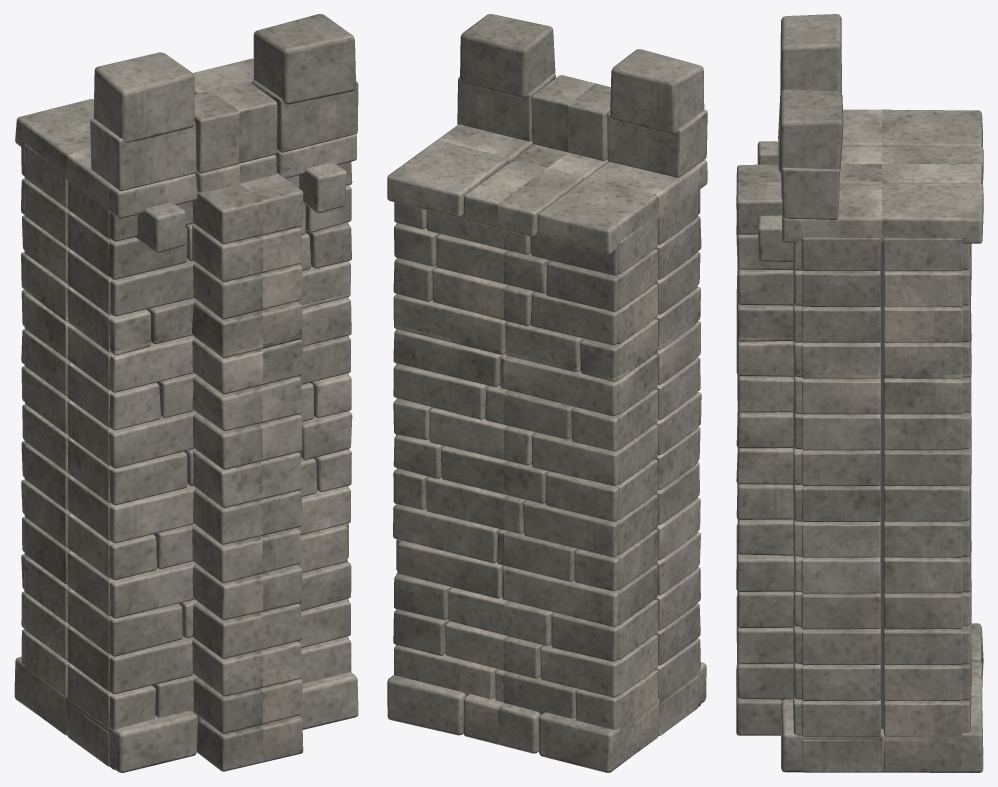
The model's file is wall_connections.glb.
3 views of the same model, side by side, from view 1: azimuth 30°, elevation 25°; view 2: azimuth 150°, elevation 25°; view 3: azimuth 270°, elevation 25° (orthographic). The views are drawn at different scales.
Parts seen in each view (by area): view 1: Bonded ashlar course.004, Bonded ashlar course.006, Bonded ashlar course.007, Bonded ashlar course.008, Bonded ashlar course, Bonded ashlar course.002, Walkway dressed coping; view 2: Bonded ashlar course.006, Bonded ashlar course.004, Bonded ashlar course.008, Bonded ashlar course.002, Walkway dressed coping, Bonded ashlar course, Bonded ashlar course.007; view 3: Bonded ashlar course, Bonded ashlar course.007, Bonded ashlar course.004, Bonded ashlar course.008, Bonded ashlar course.006, Walkway dressed coping, Bonded ashlar course.002, Masonry recessed structural backing.
Part boxes in pixels (left/top/right/bottom): Bonded ashlar course.004: left=14, top=175, right=358, bottom=772; Bonded ashlar course.006: left=21, top=52, right=348, bottom=730; Bonded ashlar course.007: left=21, top=119, right=352, bottom=735; Bonded ashlar course.008: left=21, top=180, right=351, bottom=717; Bonded ashlar course: left=21, top=14, right=358, bottom=771; Bonded ashlar course.002: left=21, top=144, right=352, bottom=766; Walkway dressed coping: left=15, top=58, right=356, bottom=252; Bonded ashlar course.006: left=393, top=49, right=704, bottom=729; Bonded ashlar course.004: left=387, top=202, right=706, bottom=772; Bonded ashlar course.008: left=393, top=190, right=700, bottom=718; Bonded ashlar course.002: left=396, top=216, right=700, bottom=735; Walkway dressed coping: left=387, top=124, right=707, bottom=254; Bonded ashlar course: left=393, top=14, right=701, bottom=706; Bonded ashlar course.007: left=394, top=109, right=707, bottom=764; Bonded ashlar course: left=736, top=89, right=971, bottom=772; Bonded ashlar course.007: left=736, top=226, right=971, bottom=772; Bonded ashlar course.004: left=736, top=243, right=983, bottom=772; Bonded ashlar course.008: left=736, top=243, right=971, bottom=736; Bonded ashlar course.006: left=736, top=14, right=971, bottom=732; Walkway dressed coping: left=757, top=109, right=983, bottom=261; Bonded ashlar course.002: left=736, top=241, right=971, bottom=598; Masonry recessed structural backing: left=880, top=243, right=883, bottom=728.
Size of the model in its own units: 2 by 5.45 by 1.87.
Materials: 8 (7 with a texture image).
